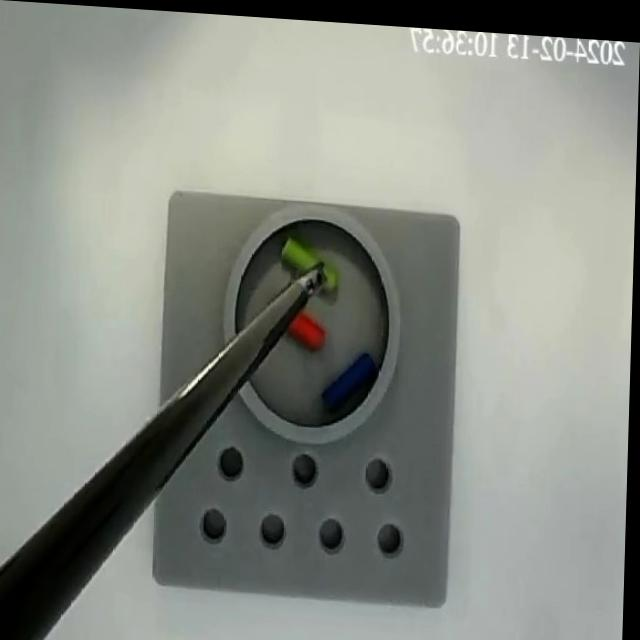EmptyHole: (366, 444, 400, 493), (290, 443, 324, 487), (220, 439, 249, 482), (202, 501, 231, 543), (379, 513, 408, 554), (262, 505, 290, 545), (320, 510, 349, 548)
